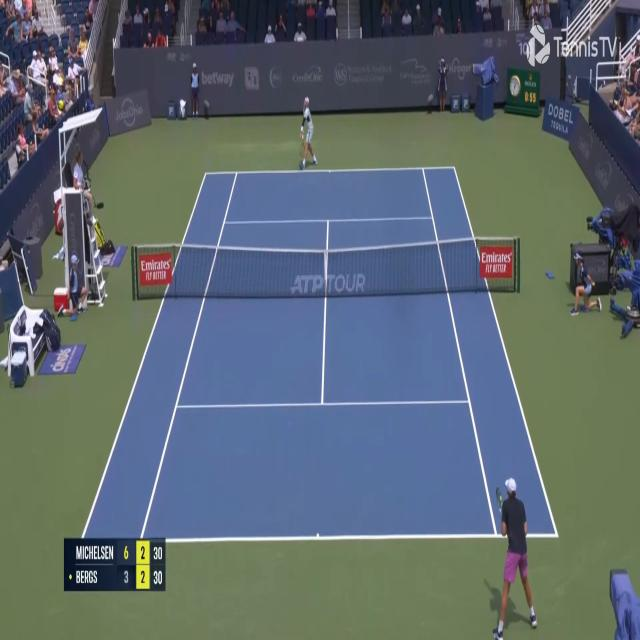tennis-player: (482, 472, 541, 639), (297, 94, 320, 171)
